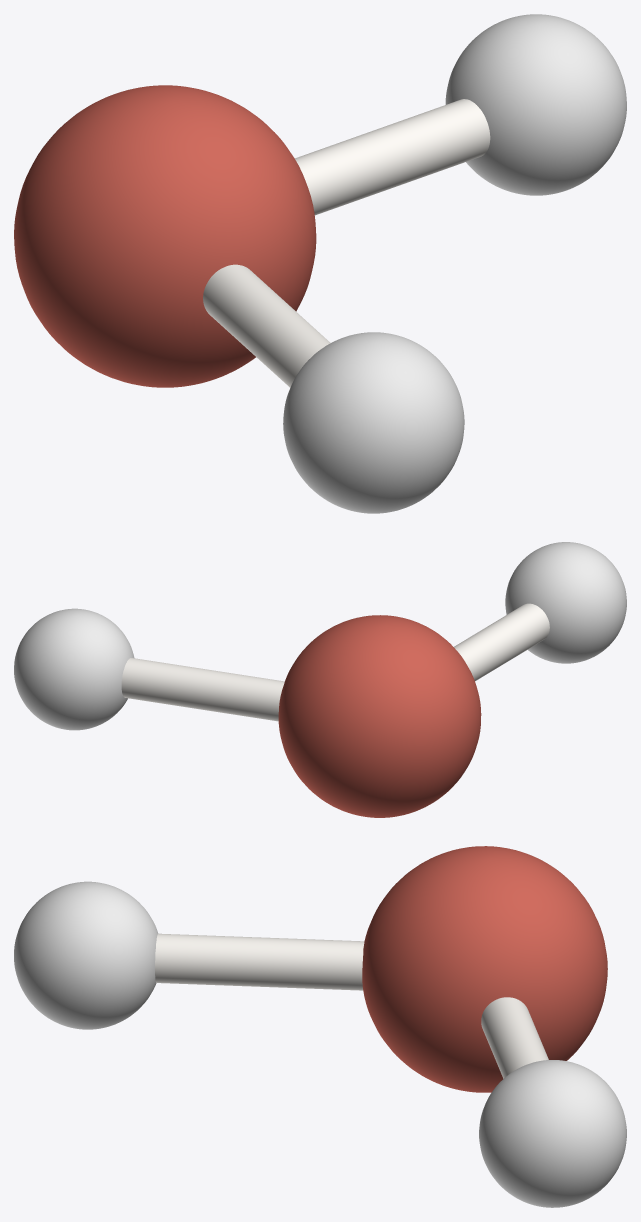
Rendered from s119 8.02 molekula vody.glb.
The picture shows the model from 3 angles, top to bottom: view 1: azimuth 30°, elevation 25°; view 2: azimuth 150°, elevation 25°; view 3: azimuth 270°, elevation 25°; orthographic projection. The views are drawn at different scales.
Parts seen in each view (by area): view 1: Sphere 3, Sphere (×2), Cylinder (×2); view 2: Sphere 3, Sphere (×2), Cylinder (×2); view 3: Sphere 3, Sphere (×2), Cylinder (×2).
Boxes of the visible parts, left/top/right/bottom form: Sphere 3: left=14, top=85, right=316, bottom=387; Sphere (×2): left=283, top=14, right=626, bottom=513; Cylinder (×2): left=203, top=99, right=490, bottom=387; Sphere 3: left=278, top=615, right=481, bottom=817; Sphere (×2): left=14, top=542, right=626, bottom=730; Cylinder (×2): left=121, top=603, right=549, bottom=721; Sphere 3: left=362, top=846, right=607, bottom=1092; Sphere (×2): left=14, top=881, right=626, bottom=1207; Cylinder (×2): left=155, top=933, right=548, bottom=1078.
Bounding box in the file's own units: 0.4752 × 0.2 × 0.497.
